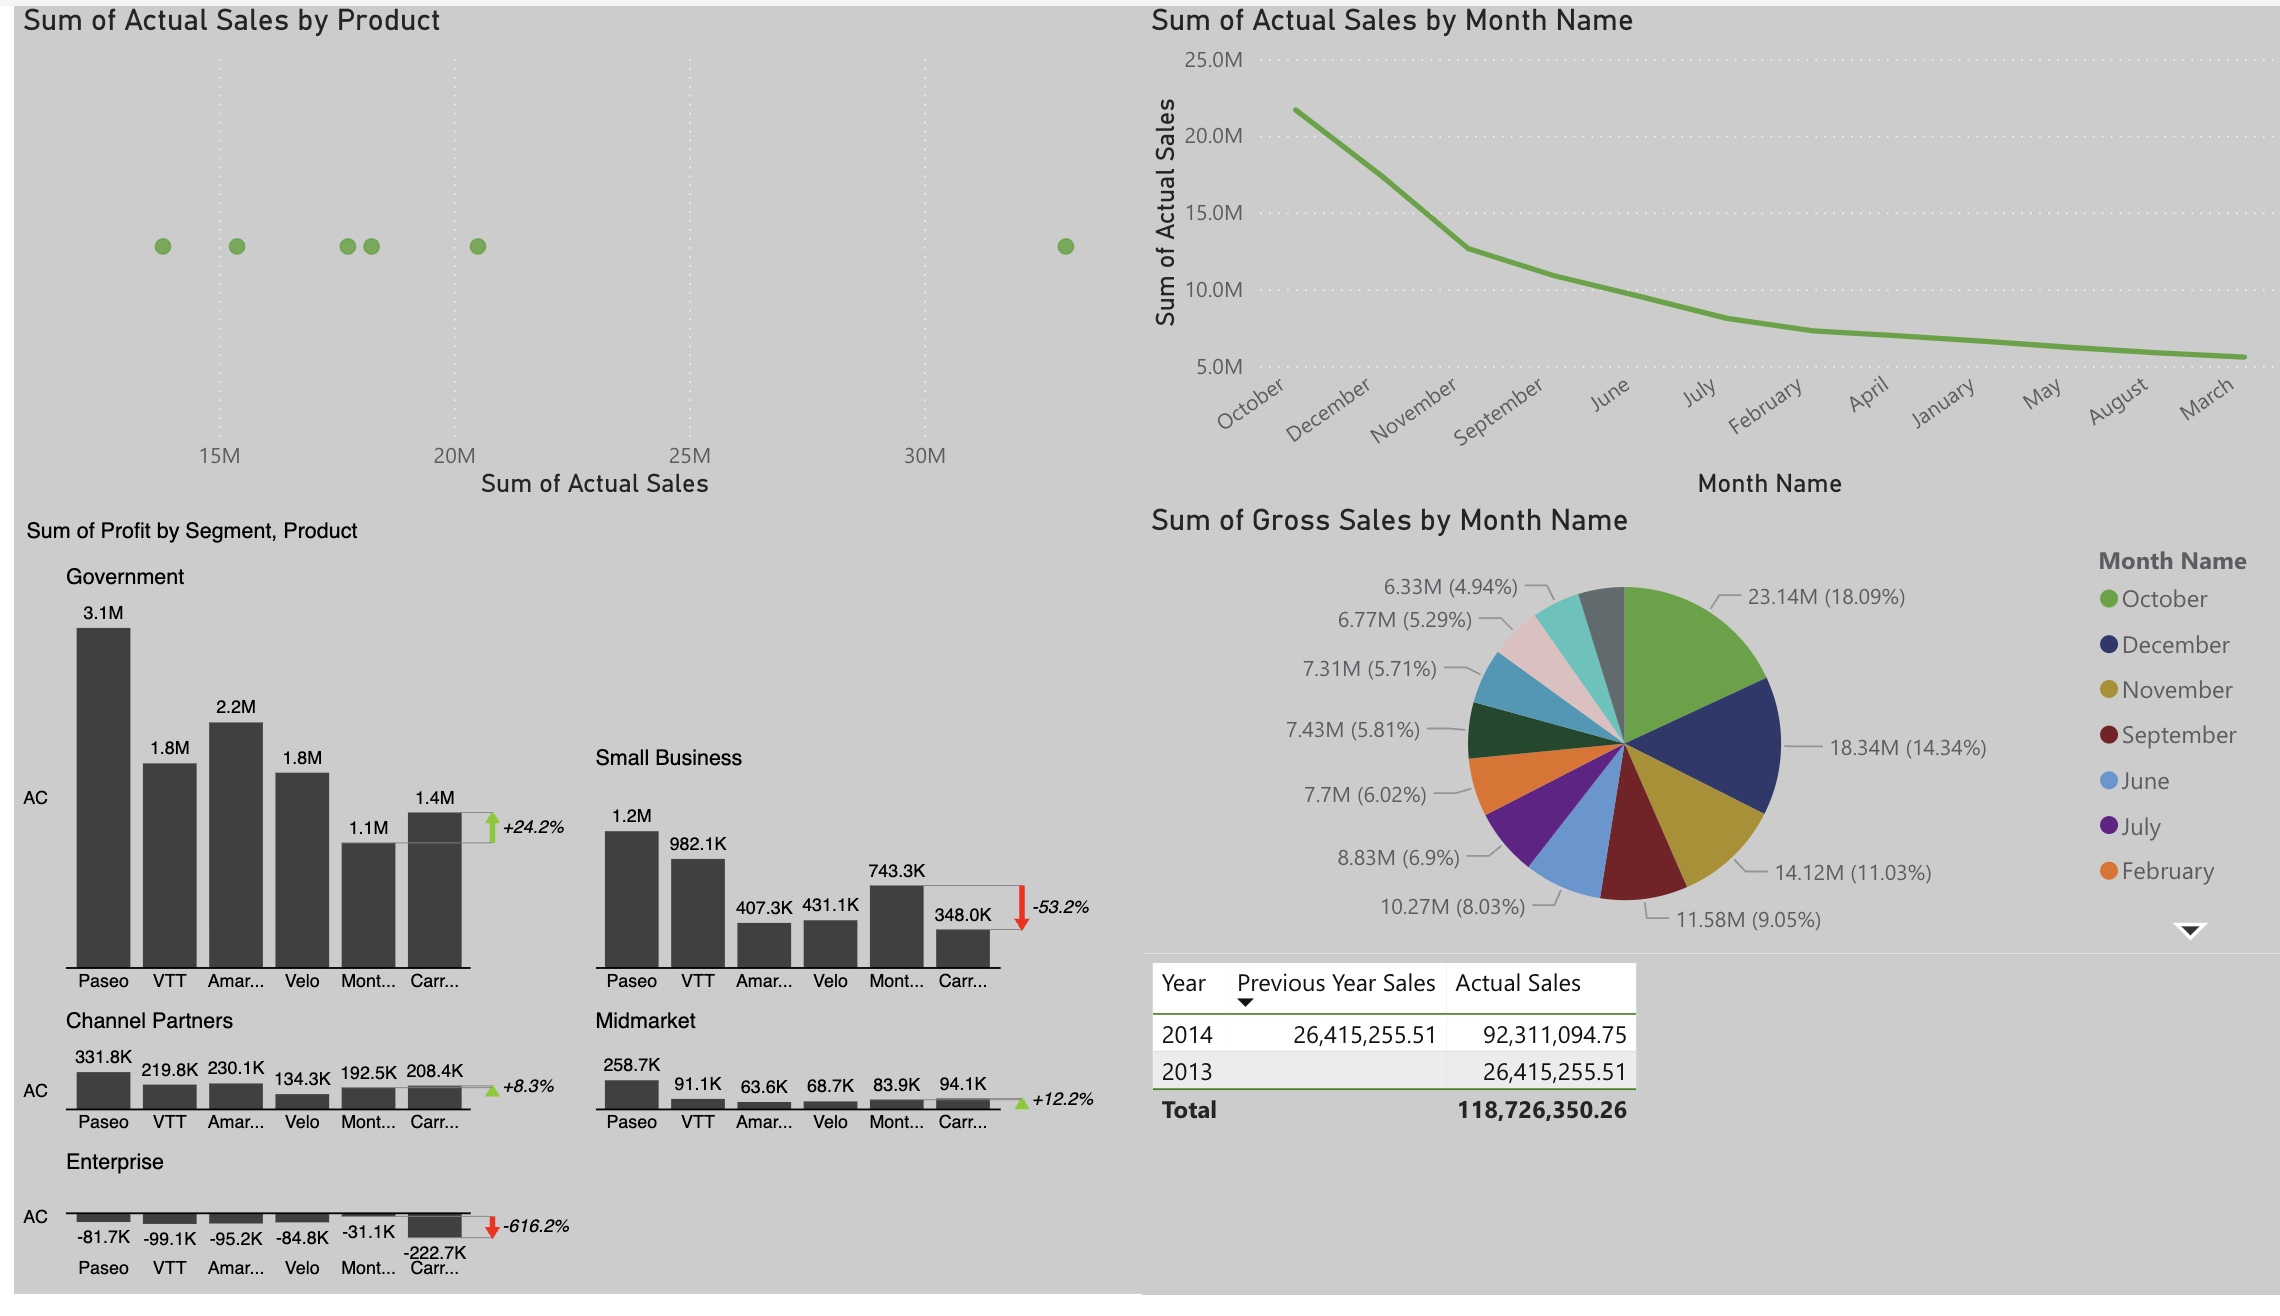

Layout of this report page (visuals, bound fields, positions):
{"tool":"powerbi","page":{"name":"Page 2","canvas":[1280,720],"ordinal":1},"visuals":[{"type":"scatterChart","fields":{"Category":["financials.Product"],"X":["Sum(financials.Actual Sales)"]},"box":[9.6,0,630.4,279.6],"z":0},{"type":"waterfall6C9ED82ABD1F44C4A0D590CE01EB5EE7","fields":{"Values":["Sum(financials.Profit)"],"Category":["financials.Product"],"Group":["financials.Segment"]},"box":[9.6,279.6,630.4,440.1],"z":1000},{"type":"lineChart","fields":{"Category":["financials.Month Name"],"Y":["Sum(financials.Actual Sales)"]},"box":[640,0,640,279.6],"z":2000},{"type":"pieChart","fields":{"Category":["financials.Month Name"],"Y":["Sum(financials.Gross Sales)"]},"box":[640,279.6,640,249.8],"z":3000},{"type":"tableEx","fields":{"Values":["Calendar.Year","financials.Previous Year Sales","Sum(financials.Actual Sales)"]},"box":[640,529.4,640,190.3],"z":4000}]}

Visuals, with their boxes in screenshot pixels (x1, y1, x2, y2), scaled from the page's 1280x720 canvas onto the 2280x1316 screenshot:
scatterChart - financials.Product x Sum(financials.Actual Sales): BBox(17, 0, 1140, 511)
waterfall6C9ED82ABD1F44C4A0D590CE01EB5EE7 - Sum(financials.Profit) x financials.Product: BBox(17, 511, 1140, 1315)
lineChart - financials.Month Name x Sum(financials.Actual Sales): BBox(1140, 0, 2279, 511)
pieChart - financials.Month Name x Sum(financials.Gross Sales): BBox(1140, 511, 2279, 968)
tableEx - Calendar.Year x financials.Previous Year Sales: BBox(1140, 968, 2279, 1315)
